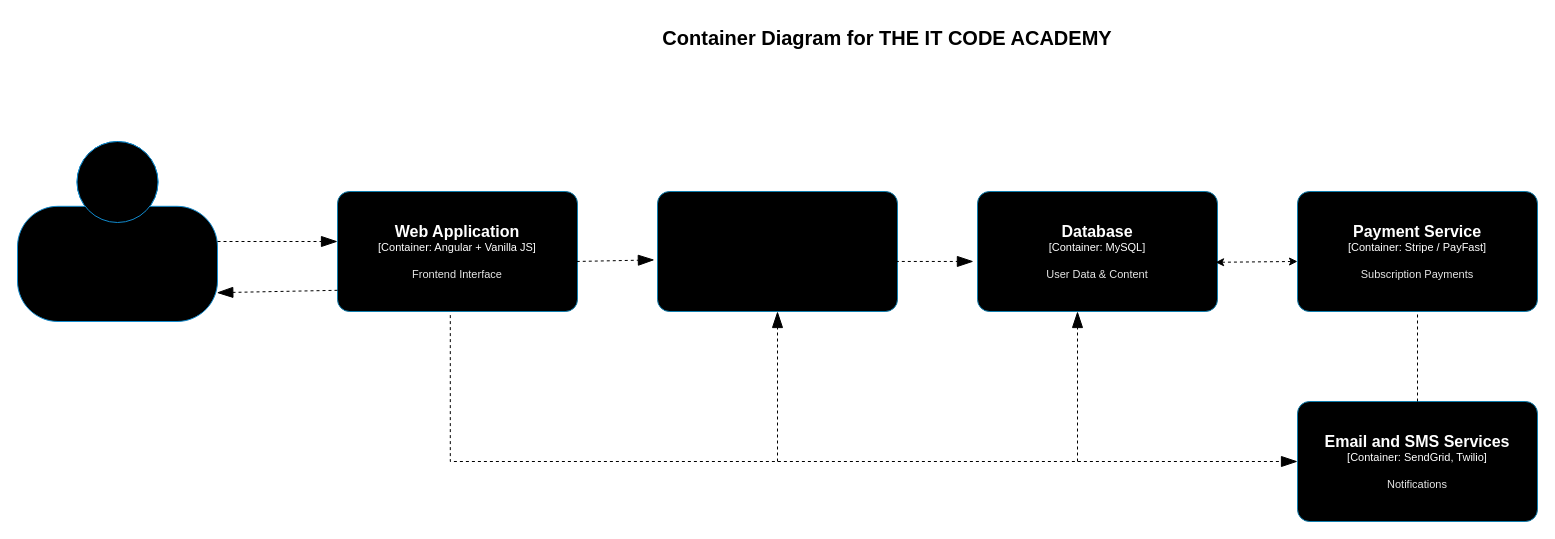
Image size: 1555x539. Some labels were removed from this diagram. Here are the shapes that lost their labels. From the top down, the centre of each, then its label:
At point 117,231: "User [Person] Student, Instructor, or Administrator".
At point 777,251: "Backend API [Container: Java Spring Boot] Business Logic & APIs".
